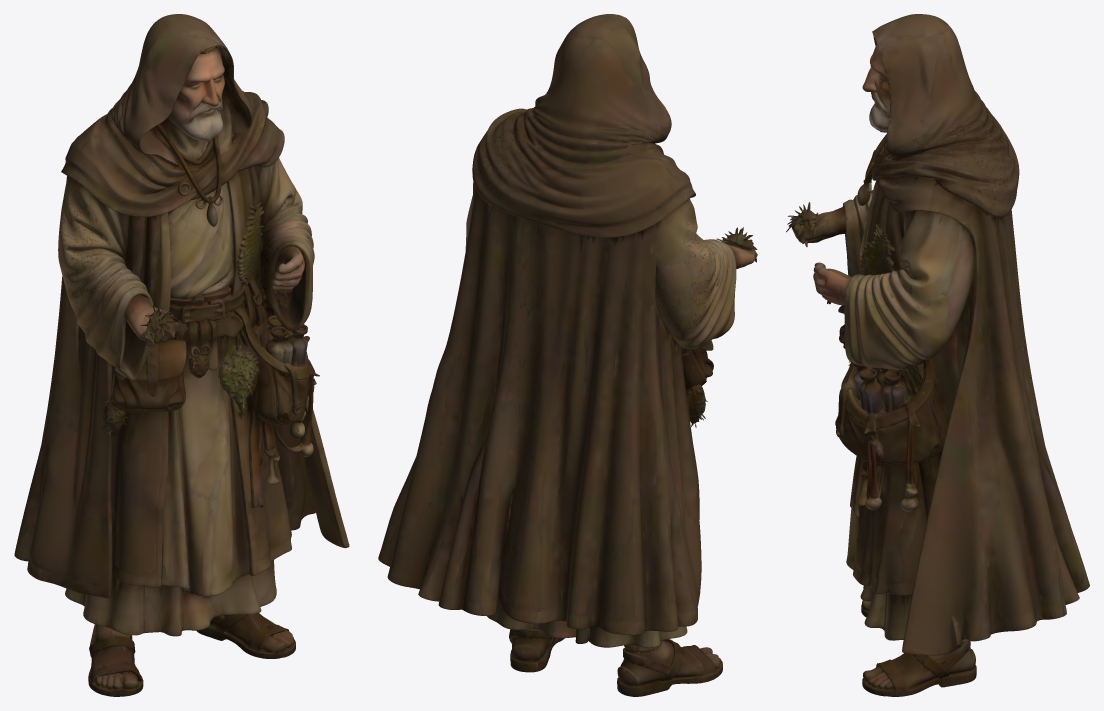
File: healer.glb
3 renders of one model, left to right at view 1: azimuth 30°, elevation 25°; view 2: azimuth 150°, elevation 25°; view 3: azimuth 270°, elevation 25°, orthographic.
Parts seen in each view (by area): view 1: material; view 2: material; view 3: material.
Part boxes in pixels (left/top/right/bottom): material: left=14, top=14, right=349, bottom=696; material: left=378, top=14, right=757, bottom=696; material: left=786, top=14, right=1089, bottom=696.
Bounding box in the file's own units: 0.5388 × 1.1 × 0.4772.
Materials: 1 (1 with a texture image).
